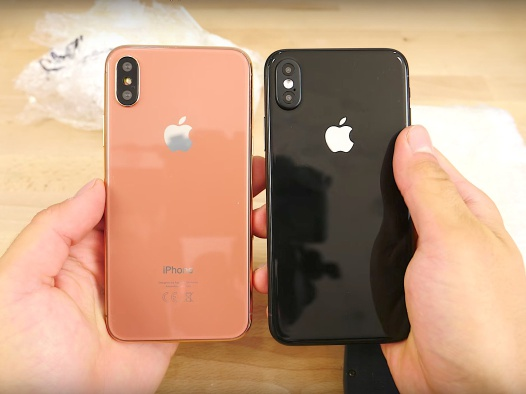apple: (157, 110, 227, 172), (313, 111, 362, 155)
